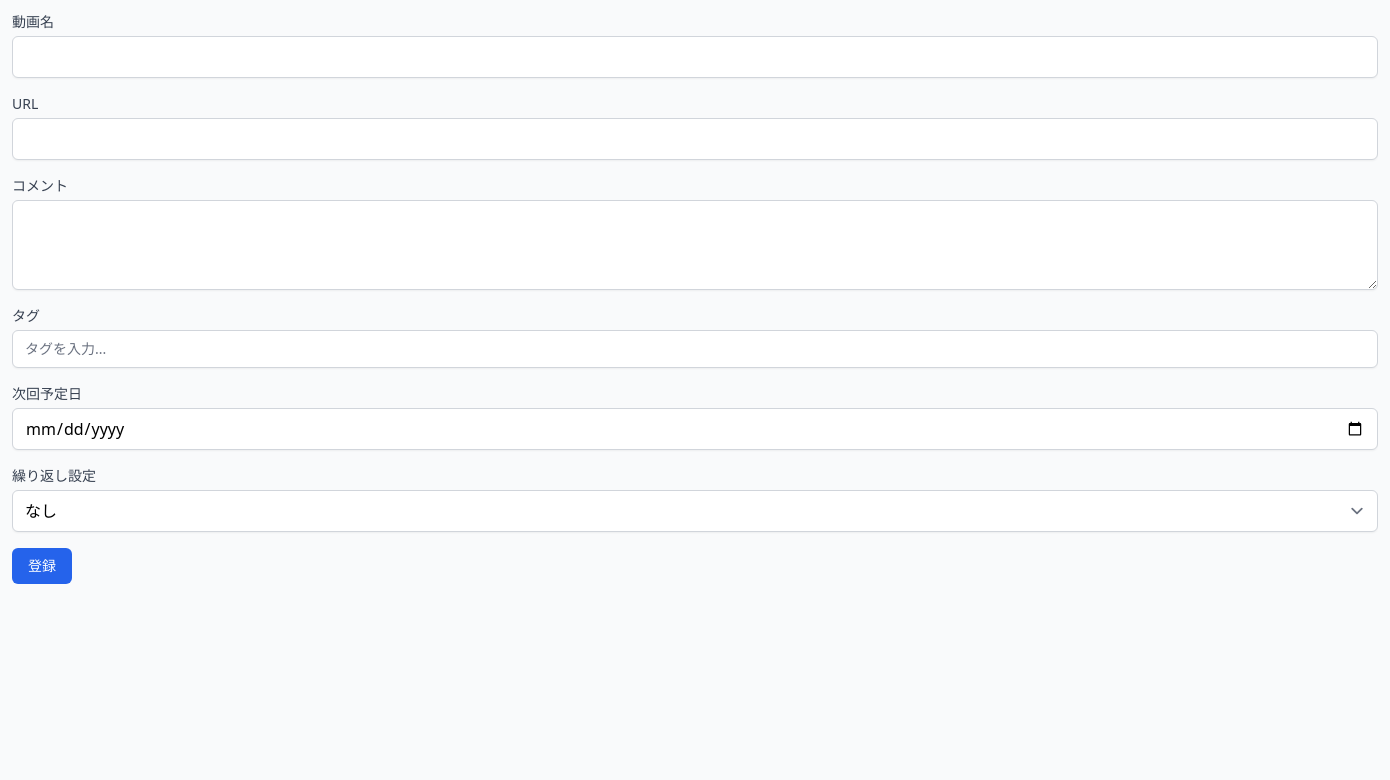
Test: recurrence settings › shows weekday checkboxes when WEEKLY selected
Select "毎週" in the dropdown: [695, 511] box [12,490,1378,532]
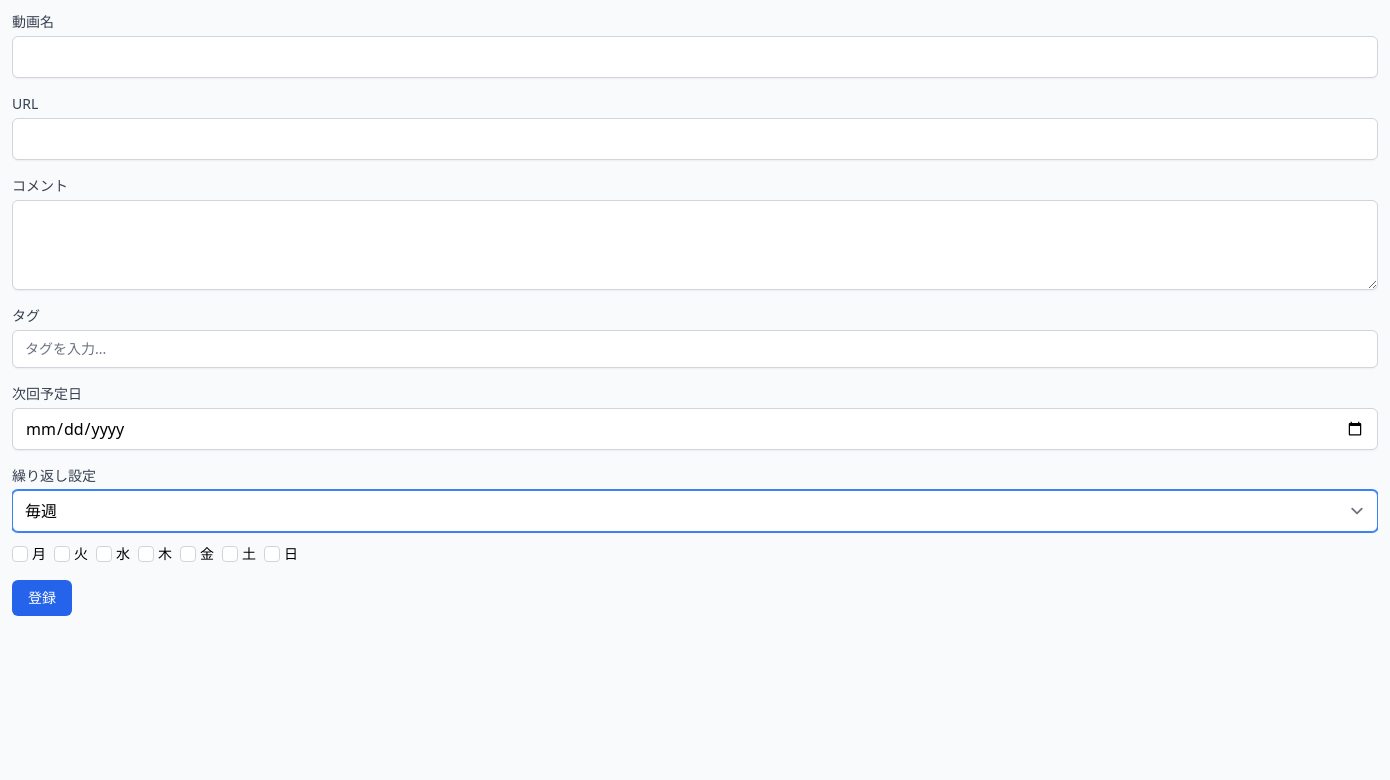
Expected: the checkbox labelled "月" is shown, [12,546,28,562]
Expected: the checkbox labelled "日" is shown, [264,546,280,562]
